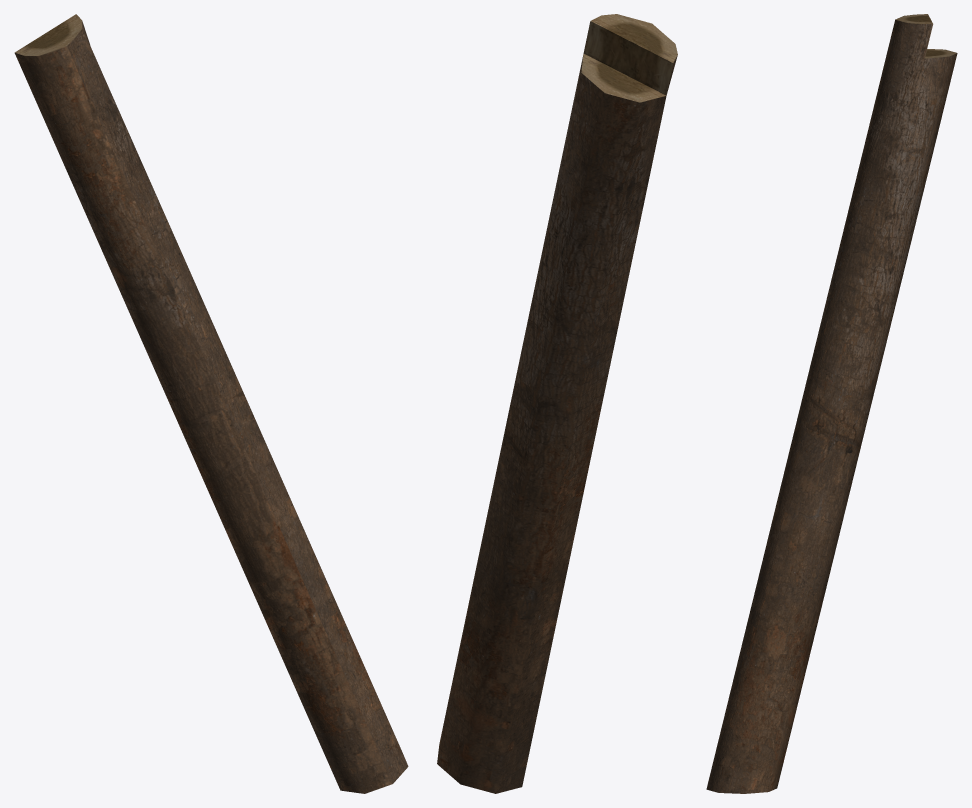
3 views of the same model, side by side, from view 1: azimuth 30°, elevation 25°; view 2: azimuth 150°, elevation 25°; view 3: azimuth 270°, elevation 25° (orthographic). The views are drawn at different scales.
Parts seen in each view (by area): view 1: TS_Lo_R; view 2: TS_Lo_R; view 3: TS_Lo_R.
Boxes of the visible parts, x1,y1,x2,y2 form: TS_Lo_R: [14, 14, 408, 793]; TS_Lo_R: [437, 14, 677, 793]; TS_Lo_R: [706, 14, 957, 793].
Bounding box in the file's own units: 0.8745 × 2.14 × 0.7073.
Materials: 1 (1 with a texture image).
